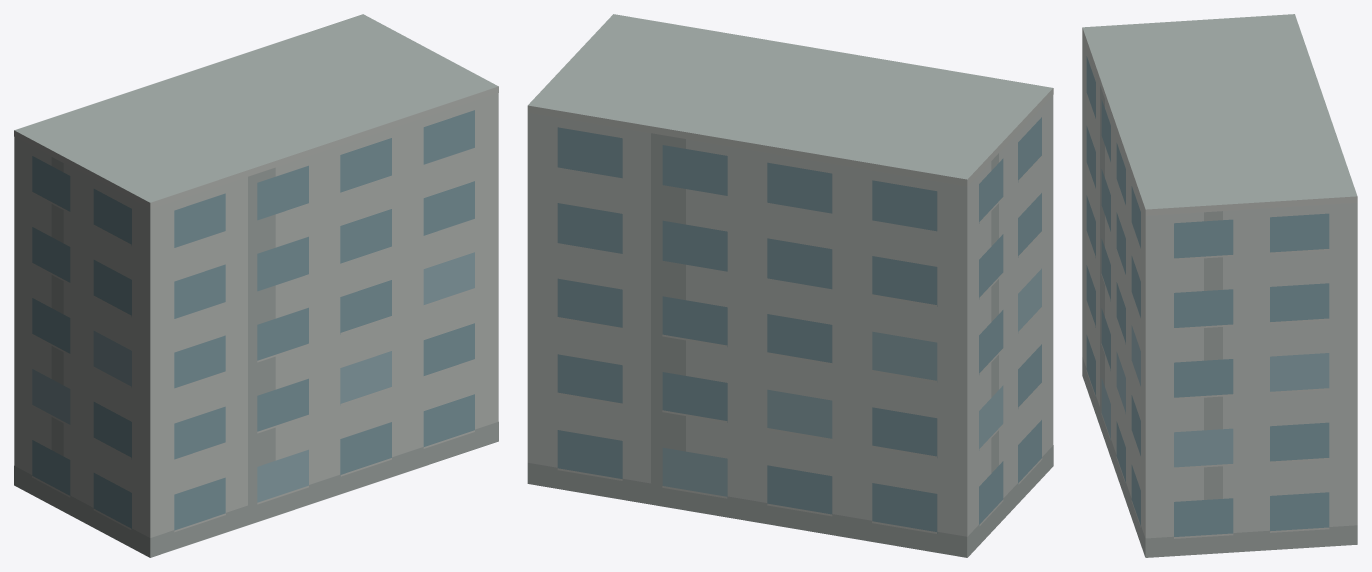
Rendered from survey-upis-32994477.glb.
3 renders of one model, left to right at view 1: azimuth 30°, elevation 25°; view 2: azimuth 150°, elevation 25°; view 3: azimuth 270°, elevation 25°, orthographic. The views are drawn at different scales.
Parts seen in each view (by area): view 1: survey-upis-32994477.tmp; view 2: survey-upis-32994477.tmp; view 3: survey-upis-32994477.tmp.
Boxes of the visible parts, box(x1,y1,x2,y2) form: survey-upis-32994477.tmp: box(14, 14, 498, 557); survey-upis-32994477.tmp: box(527, 14, 1053, 557); survey-upis-32994477.tmp: box(1082, 14, 1357, 557).
Bounding box in the file's own units: 16.02 × 13.3 × 9.53.
